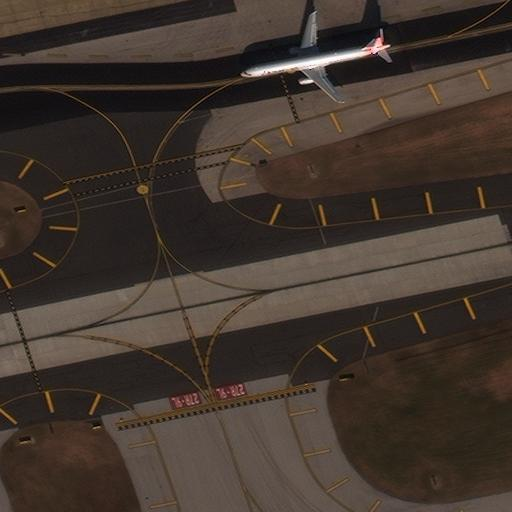Medium Civil Transport: (240, 15, 390, 102)
